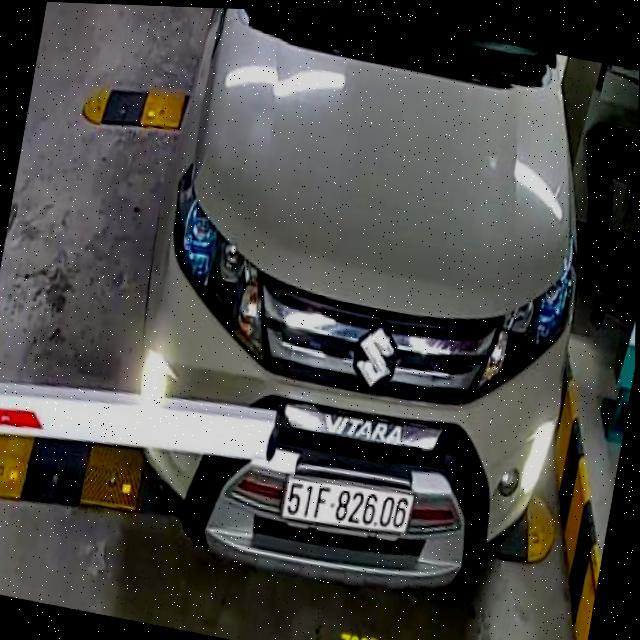car: (104, 4, 627, 630)
plate: (270, 467, 421, 544)
